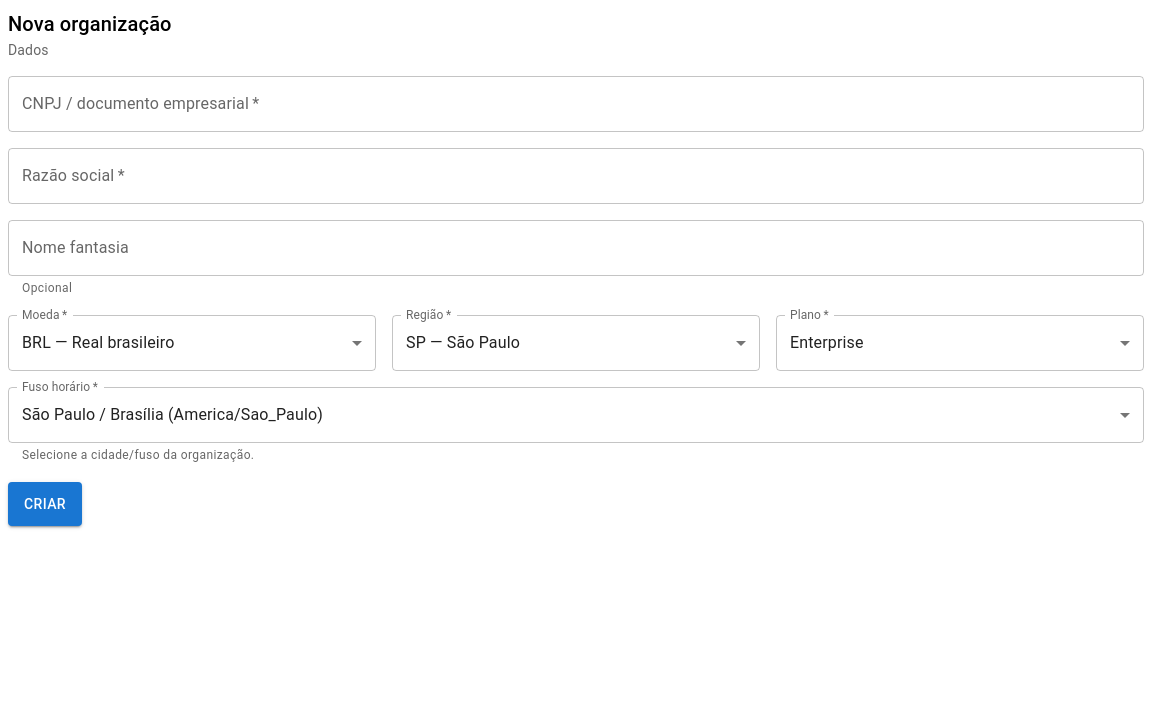
Scenario: OrganizationForm › mostra erro da API no seletor e foca o campo sem apagar os dados
The image size is (1152, 720).
Type "12345678000195" into the field labelled "CNPJ / documento empresarial" at (576, 104), box [8, 76, 1144, 132]
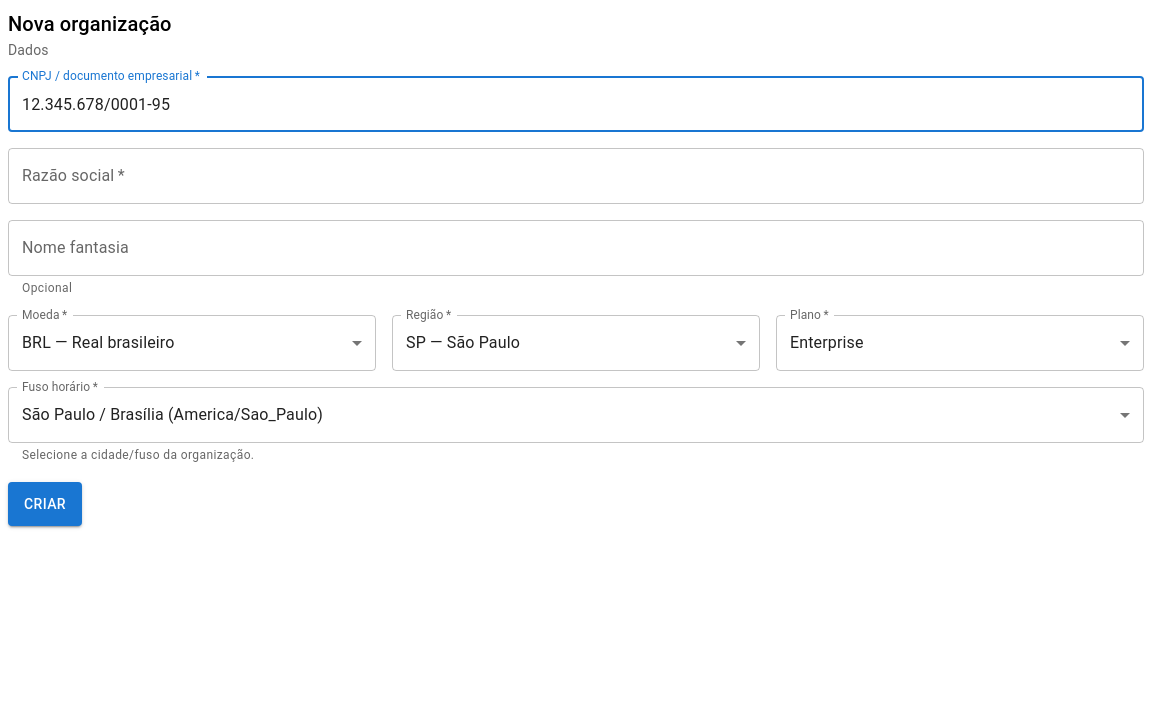
Type "Empresa preservada" into the field labelled "Razão social" at (576, 176), box [8, 148, 1144, 204]
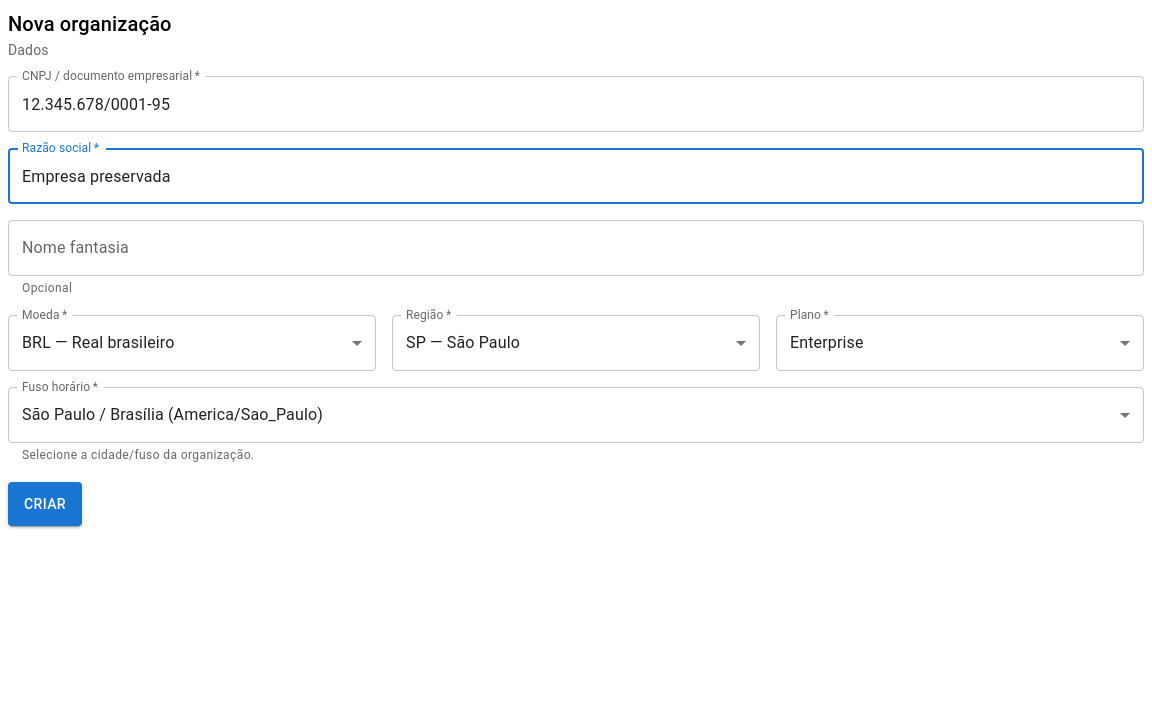
Click the button "Criar" at (45, 504), box [8, 482, 82, 526]
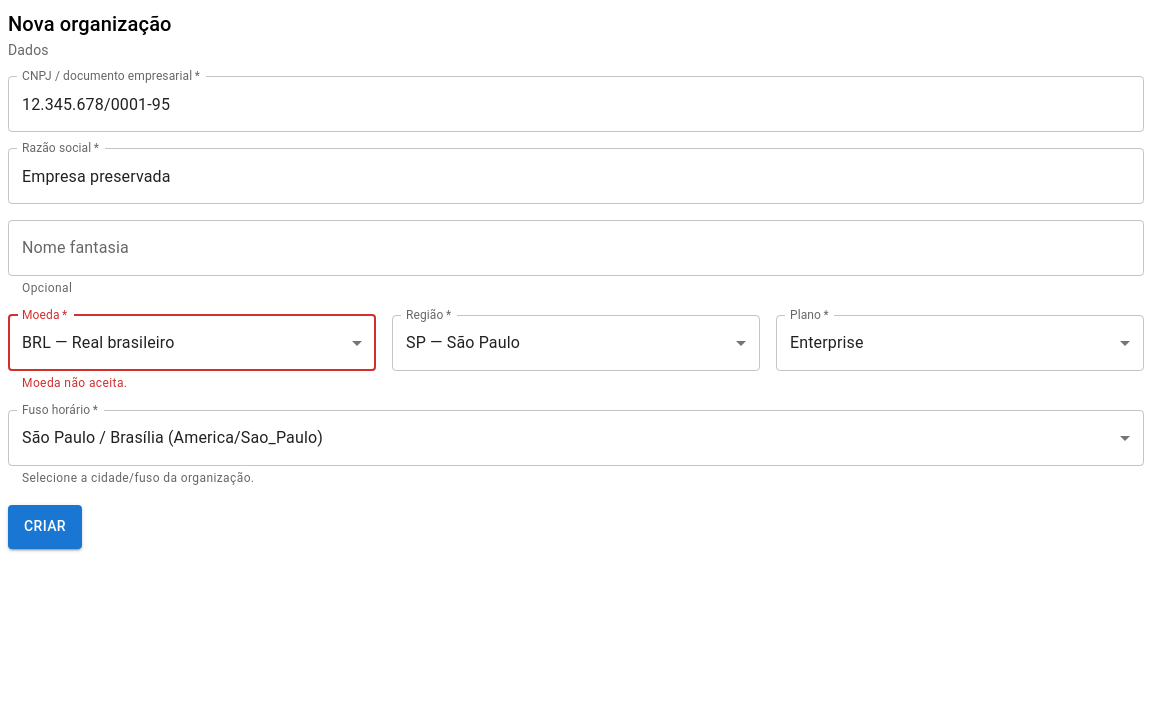
Check: the text "Moeda não aceita." is shown, box [22, 376, 127, 390]
